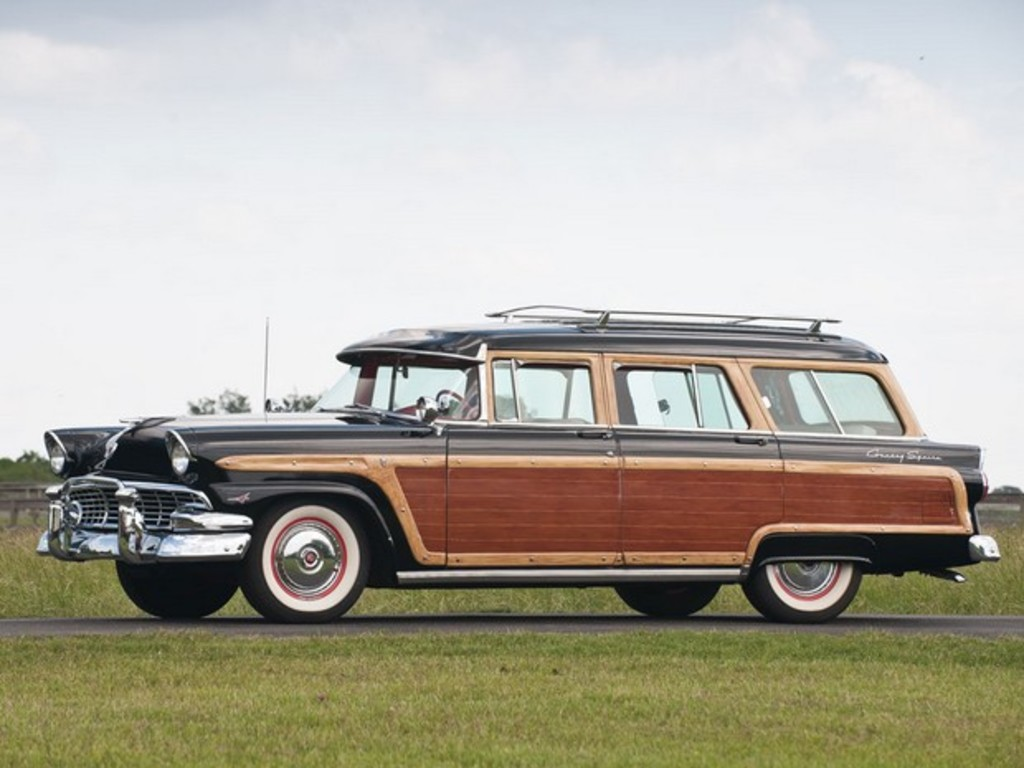Car: (35, 305, 999, 624)
